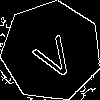V: (26, 26, 79, 83)
